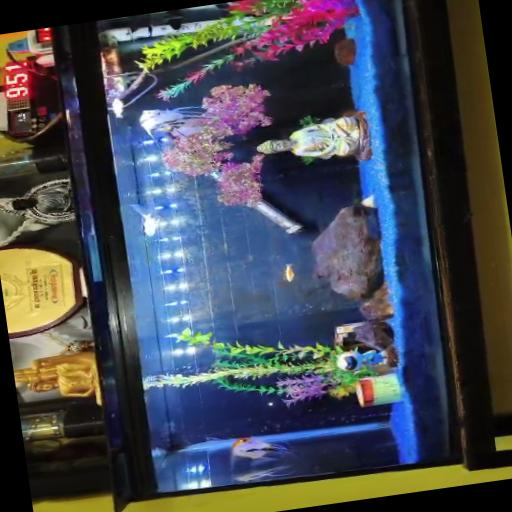Fish: (231, 436, 294, 481), (140, 105, 213, 137), (231, 436, 293, 458), (131, 203, 161, 235), (234, 465, 292, 481), (110, 98, 125, 117), (284, 262, 295, 280)
